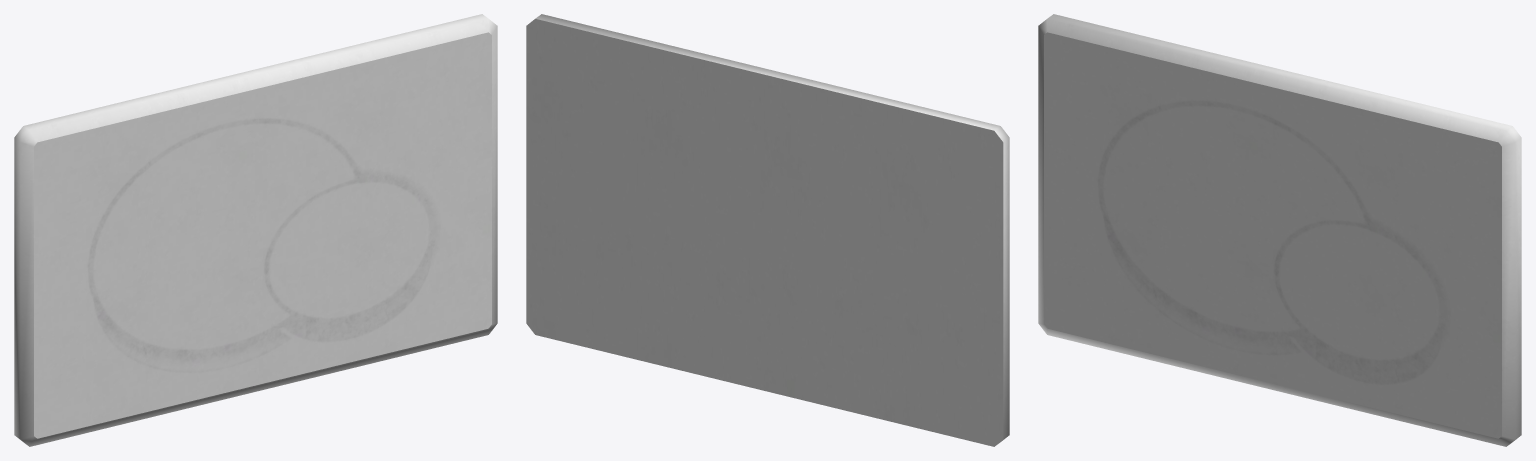
Rendered from SM_Wall_Flush_01.glb.
3 renders of one model, left to right at view 1: azimuth 30°, elevation 25°; view 2: azimuth 150°, elevation 25°; view 3: azimuth 330°, elevation 25°, orthographic.
Parts seen in each view (by area): view 1: SM_Wall_Flush_01; view 2: SM_Wall_Flush_01; view 3: SM_Wall_Flush_01.
Boxes of the visible parts, box(x1,y1,x2,y2) form: SM_Wall_Flush_01: box(14, 14, 497, 446); SM_Wall_Flush_01: box(526, 14, 1009, 446); SM_Wall_Flush_01: box(1038, 14, 1521, 446).
Size of the model in its own units: 0.2238 by 0.1417 by 0.00828.
1 material, 1 textured.
